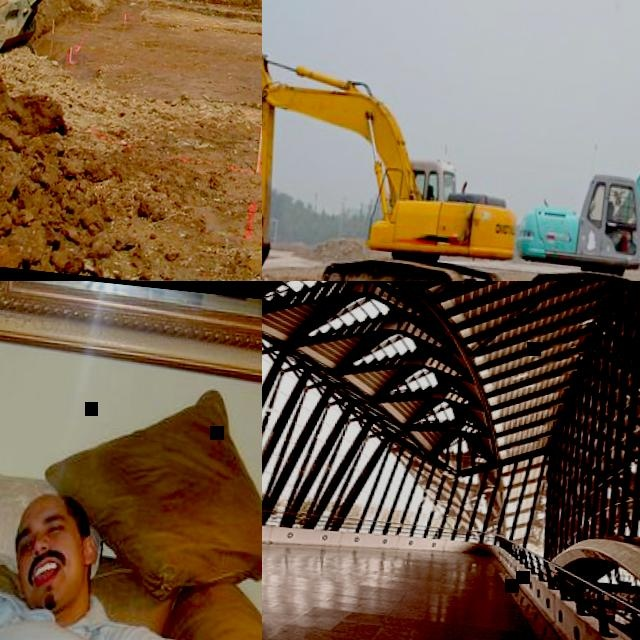NO-Hardhat: (18, 490, 87, 526)
NO-Mask: (17, 526, 97, 610)
Person: (0, 469, 223, 640), (607, 201, 619, 224), (426, 186, 436, 202)
machinery: (262, 25, 533, 281), (509, 73, 640, 281)
